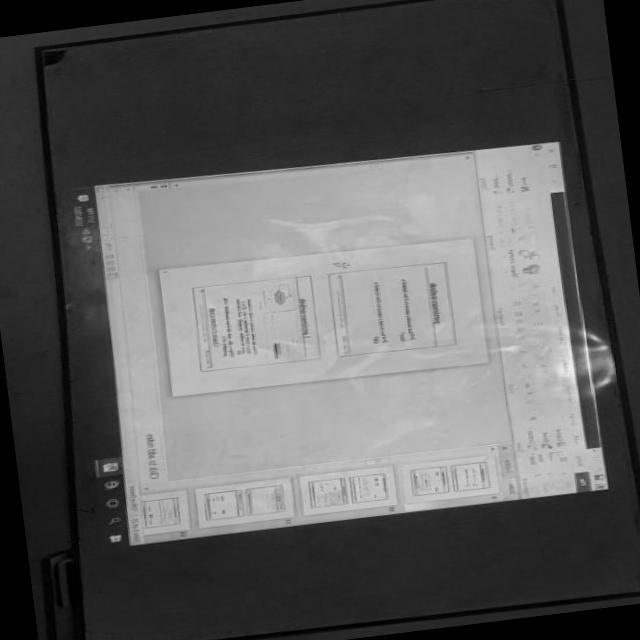Slide: (64, 142, 615, 552)
White-board: (33, 0, 640, 640)
